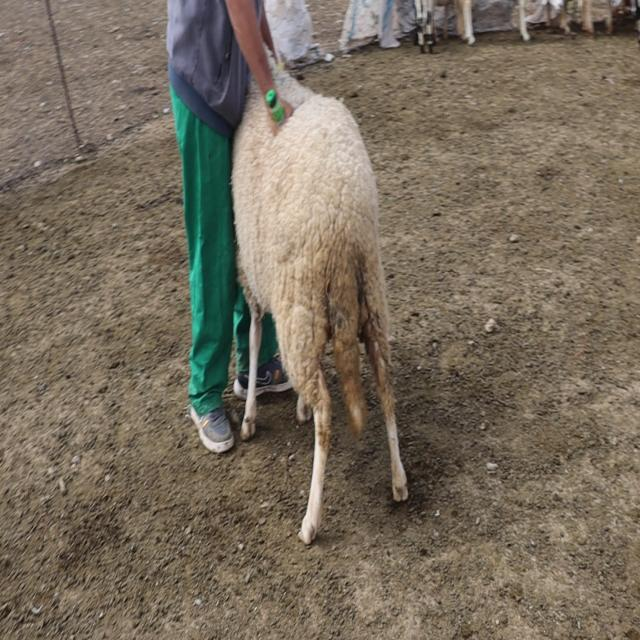Score_4: (231, 58, 408, 544)
